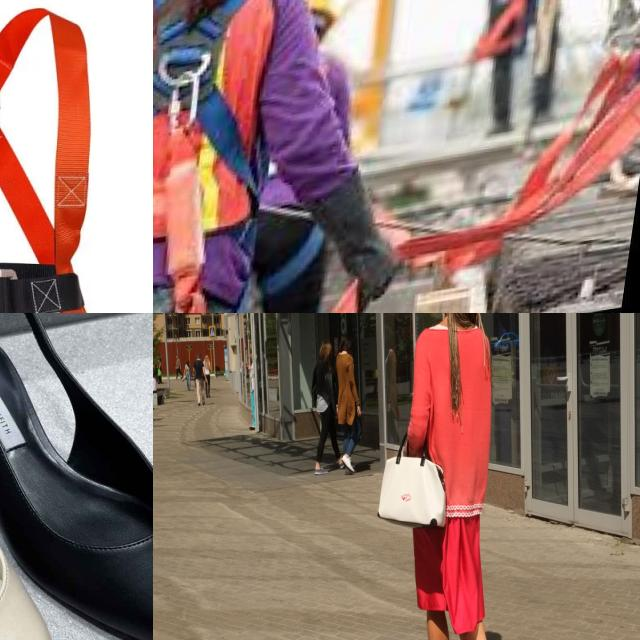Harness: (0, 3, 98, 313), (153, 0, 253, 189)
Sandals: (0, 313, 153, 640), (0, 319, 104, 640)
